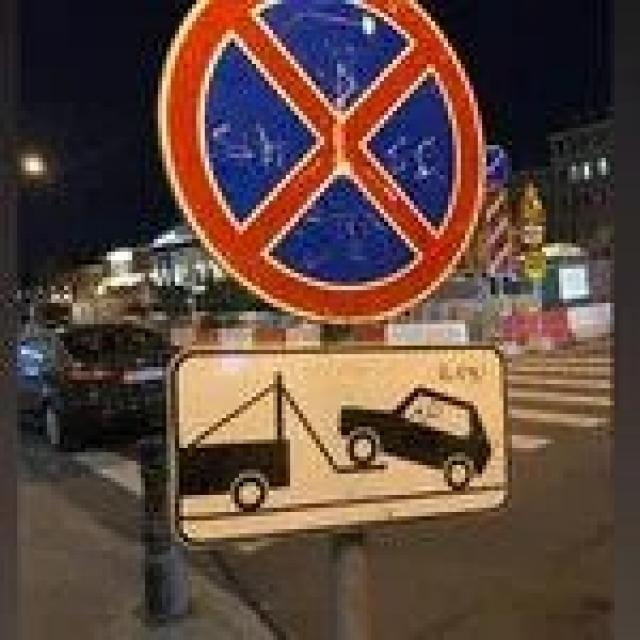no stopping: (150, 0, 498, 329)
